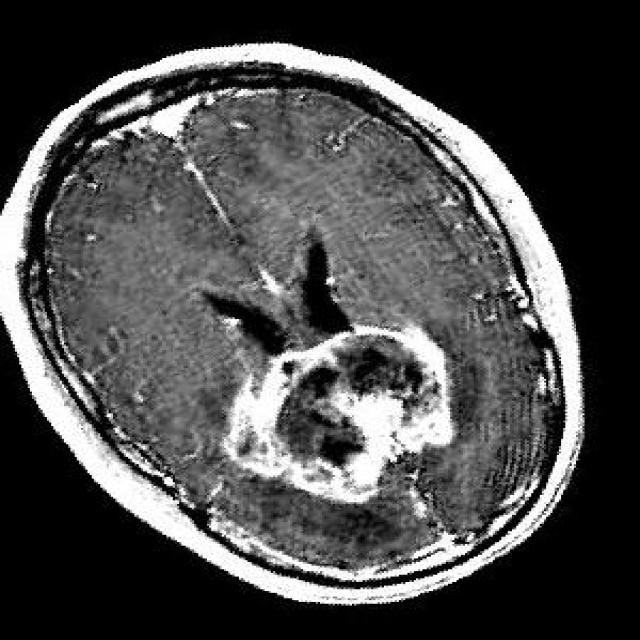Tumor-Cell: (234, 304, 469, 508)
